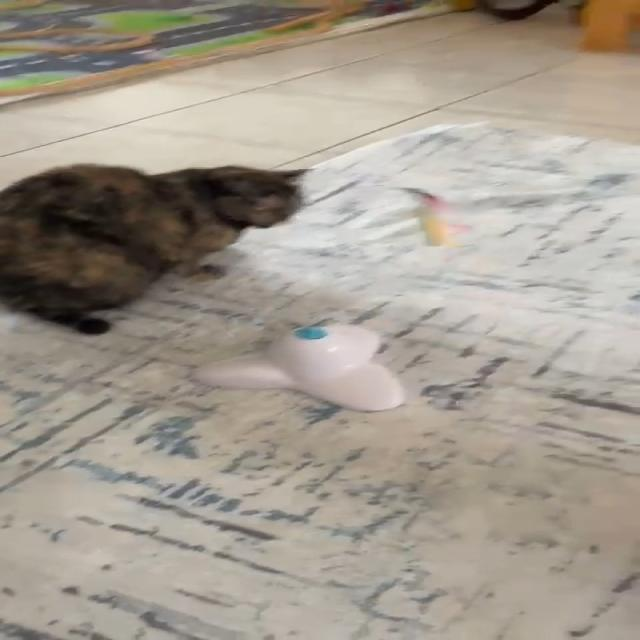authorized: (0, 162, 312, 335)
